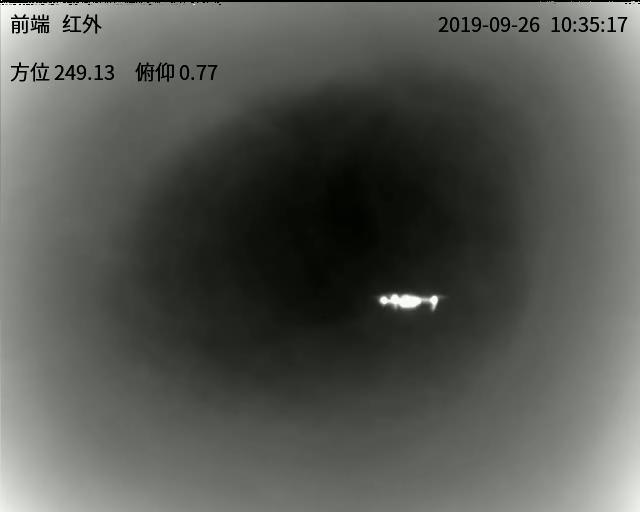uav: (375, 289, 444, 313)
